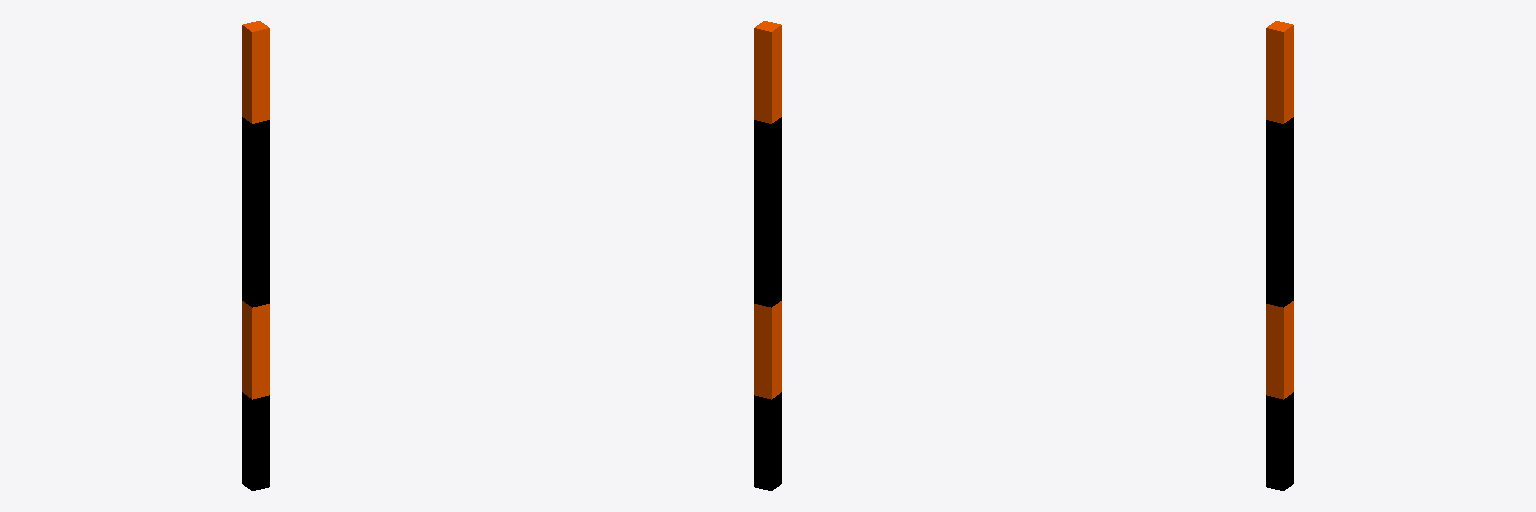
URDF robot description (testbot):
<?xml version="1.0" ?>
<robot name="testbot">

  <material name="black">
    <color rgba="0.0 0.0 0.0 1.0"/>
  </material>
  <material name="orange">
    <color rgba="1.0 0.4 0.0 1.0"/>
  </material>

  <link name="base"/>

  <joint name="fixed" type="fixed">
    <parent link="base"/>
    <child link="link1"/>
  </joint>

  <link name="link1">
    <inertial>
      <origin xyz="0.0 0.0 0.25" rpy="0.0 0.0 0.0"/>
      <mass value="1.0"/>
      <inertia ixx="1.0" ixy="0.0" ixz="0.0" iyy="1.0" iyz="0.0" izz="1.0"/>
    </inertial>
    <visual>
      <origin xyz="0.0 0.0 0.25" rpy="0.0 0.0 0.0"/>
      <geometry>
        <box size="0.1 0.1 0.5"/>
      </geometry>
      <material name="black"/>
    </visual>
    <collision>
      <origin xyz="0.0 0.0 0.25" rpy="0.0 0.0 0.0"/>
      <geometry>
        <box size="0.1 0.1 0.5"/>
      </geometry>
    </collision>
  </link>

  <joint name="joint1" type="revolute">
    <origin xyz="0.0 0.0 0.5" rpy="0.0 0.0 0.0"/>
    <parent link="link1"/>
    <child link="link2"/>
    <axis xyz="0.0 0.0 1.0"/>
    <limit lower="-2.617" upper="2.617" effort="30.0" velocity="1.571"/>
  </joint>

  <link name="link2">
    <inertial>
      <origin xyz="0.0 0.0 0.25" rpy="0.0 0.0 0.0"/>
      <mass value="1.0"/>
      <inertia ixx="1.0" ixy="0.0" ixz="0.0" iyy="1.0" iyz="0.0" izz="1.0"/>
    </inertial>
    <visual>
      <origin xyz="0.0 0.0 0.25" rpy="0.0 0.0 0.0"/>
      <geometry>
        <box size="0.1 0.1 0.5"/>
      </geometry>
      <material name="orange"/>
    </visual>
    <collision>
      <origin xyz="0.0 0.0 0.25" rpy="0.0 0.0 0.0"/>
      <geometry>
        <box size="0.1 0.1 0.5"/>
      </geometry>
    </collision>
  </link>

  <joint name="joint2" type="revolute">
    <origin xyz="0.0 0.0 0.5" rpy="0.0 0.0 0.0"/>
    <parent link="link2"/>
    <child link="link3"/>
    <axis xyz="0.0 1.0 0.0"/>
    <limit lower="-2.617" upper="2.617" effort="30.0" velocity="1.571"/>
  </joint>

  <link name="link3">
    <inertial>
      <origin xyz="0.0 0.0 0.5" rpy="0.0 0.0 0.0"/>
      <mass value="1.0"/>
      <inertia ixx="1.0" ixy="0.0" ixz="0.0" iyy="1.0" iyz="0.0" izz="1.0"/>
    </inertial>
    <visual>
      <origin xyz="0.0 0.0 0.5" rpy="0.0 0.0 0.0"/>
      <geometry>
        <box size="0.1 0.1 1.0"/>
      </geometry>
      <material name="black"/>
    </visual>
    <collision>
      <origin xyz="0.0 0.0 0.5" rpy="0.0 0.0 0.0"/>
      <geometry>
        <box size="0.1 0.1 1.0"/>
      </geometry>
    </collision>
  </link>

  <joint name="joint3" type="revolute">
    <origin xyz="0.0 0.0 1.0" rpy="0.0 0.0 0.0"/>
    <parent link="link3"/>
    <child link="link4"/>
    <axis xyz="0.0 1.0 0.0"/>
    <limit lower="-2.617" upper="2.617" effort="30.0" velocity="1.571"/>
  </joint>

  <link name="link4">
    <inertial>
      <origin xyz="0.0 0.0 0.25" rpy="0.0 0.0 0.0"/>
      <mass value="1.0"/>
      <inertia ixx="1.0" ixy="0.0" ixz="0.0" iyy="1.0" iyz="0.0" izz="1.0"/>
    </inertial>
    <visual>
      <origin xyz="0.0 0.0 0.25" rpy="0.0 0.0 0.0"/>
      <geometry>
        <box size="0.1 0.1 0.5"/>
      </geometry>
      <material name="orange"/>
    </visual>
    <collision>
      <origin xyz="0.0 0.0 0.25" rpy="0.0 0.0 0.0"/>
      <geometry>
        <box size="0.1 0.1 0.5"/>
      </geometry>
    </collision>
  </link>

</robot>

--- What the picture shows (computed from the rendered views, not written in the file) ---
Views: 3 orthographic renders of the robot side by side, from view 1: azimuth 30°, elevation 25°; view 2: azimuth 150°, elevation 25°; view 3: azimuth 330°, elevation 25°.
Model testbot with 5 links and 4 joints (3 revolute, 1 fixed), rooted at base, posed every joint at zero.
Links seen in each view (by area): view 1: link3, link4, link1, link2; view 2: link3, link4, link1, link2; view 3: link3, link4, link1, link2.
Boxes of the visible links, <box> form: link3: <box>242,117,269,307</box>; link4: <box>242,21,269,123</box>; link1: <box>242,392,269,490</box>; link2: <box>242,301,269,399</box>; link3: <box>754,117,781,307</box>; link4: <box>754,21,781,123</box>; link1: <box>754,392,781,490</box>; link2: <box>754,301,781,399</box>; link3: <box>1266,117,1293,307</box>; link4: <box>1266,21,1293,123</box>; link1: <box>1266,392,1293,490</box>; link2: <box>1266,301,1293,399</box>.
Size in the robot's own frame: 0.1 by 0.1 by 2.5 metres.
Geometry: primitives only (box / cylinder / sphere), no mesh files.